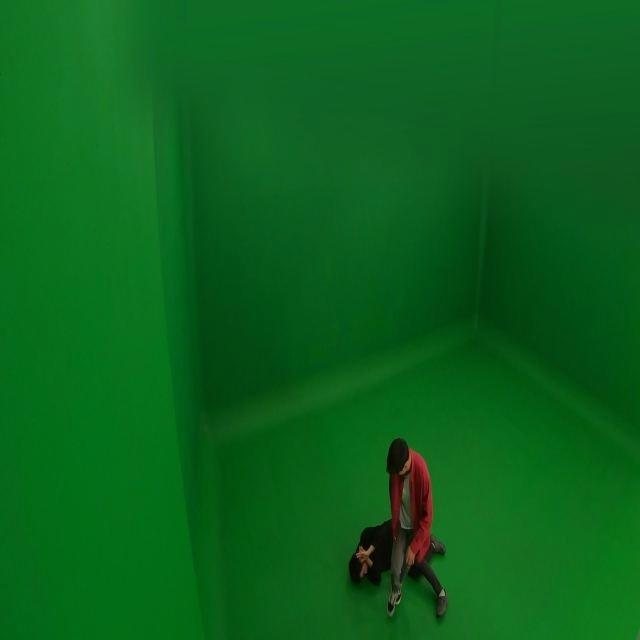fight: (344, 434, 449, 622)
